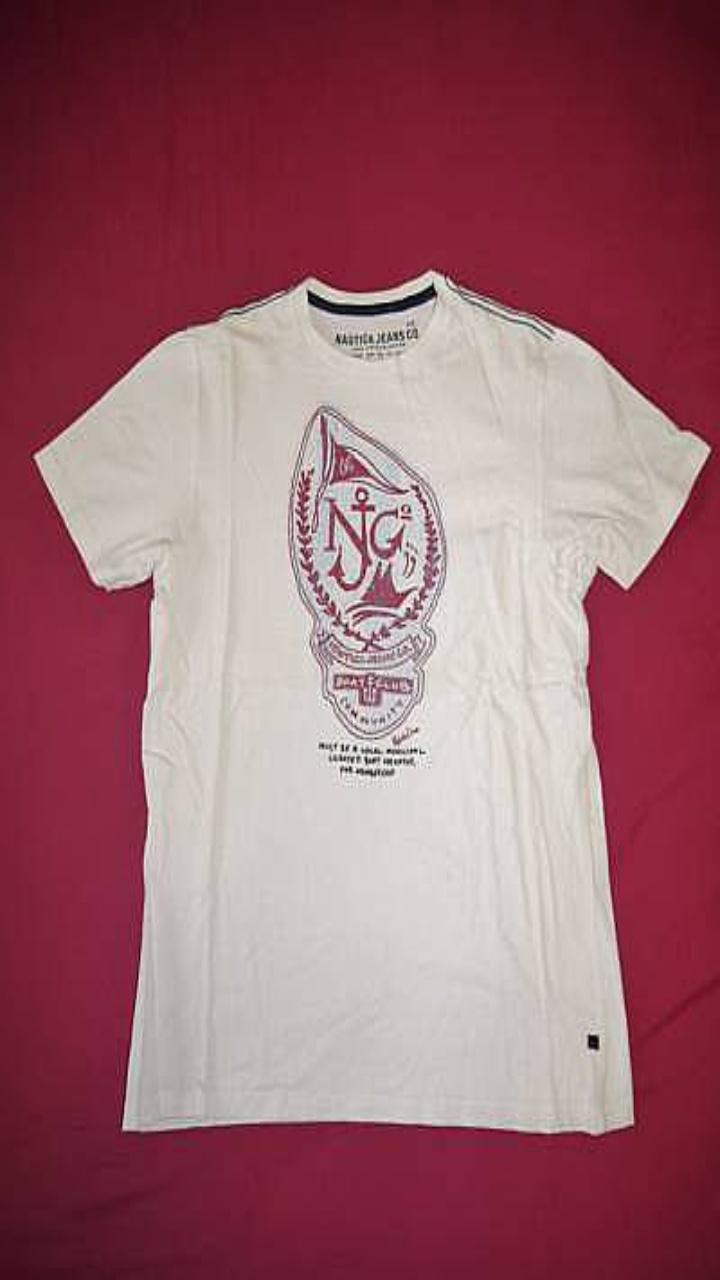T-Shirt: (33, 269, 709, 1133)
